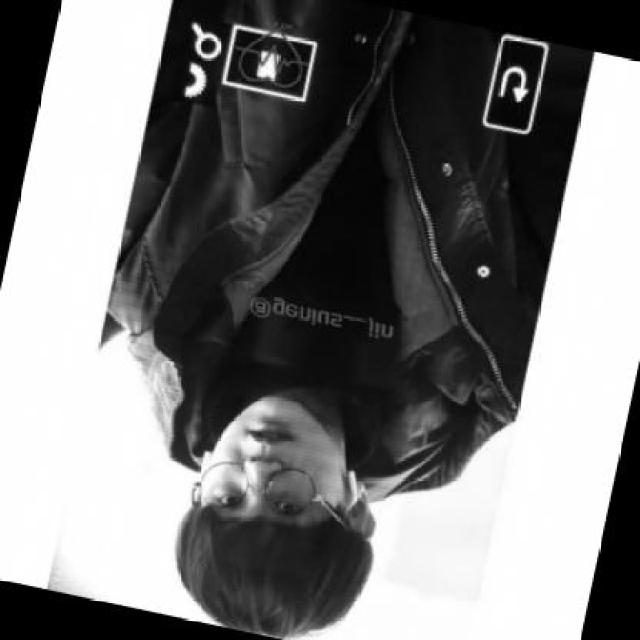earphone: (334, 451, 374, 508)
